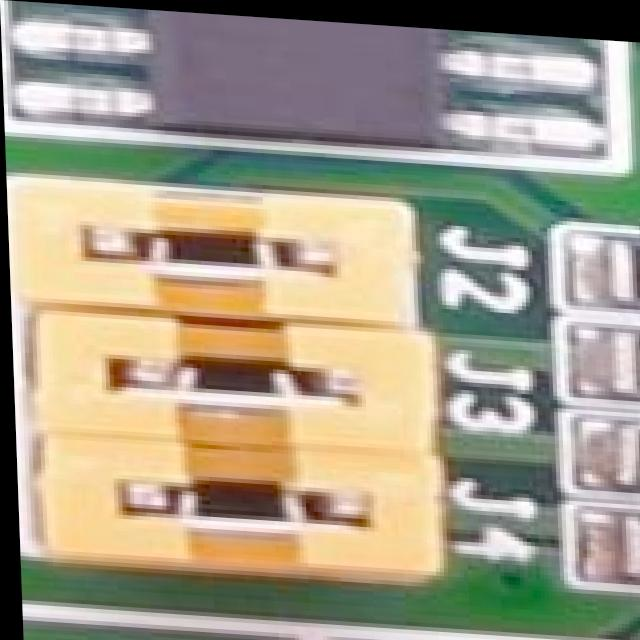IC: (8, 0, 555, 149)
connector: (9, 304, 440, 446), (5, 180, 421, 326), (31, 449, 424, 581), (19, 636, 307, 640)
resistor: (562, 225, 640, 294), (568, 317, 640, 390), (587, 410, 640, 482), (598, 503, 640, 570)
